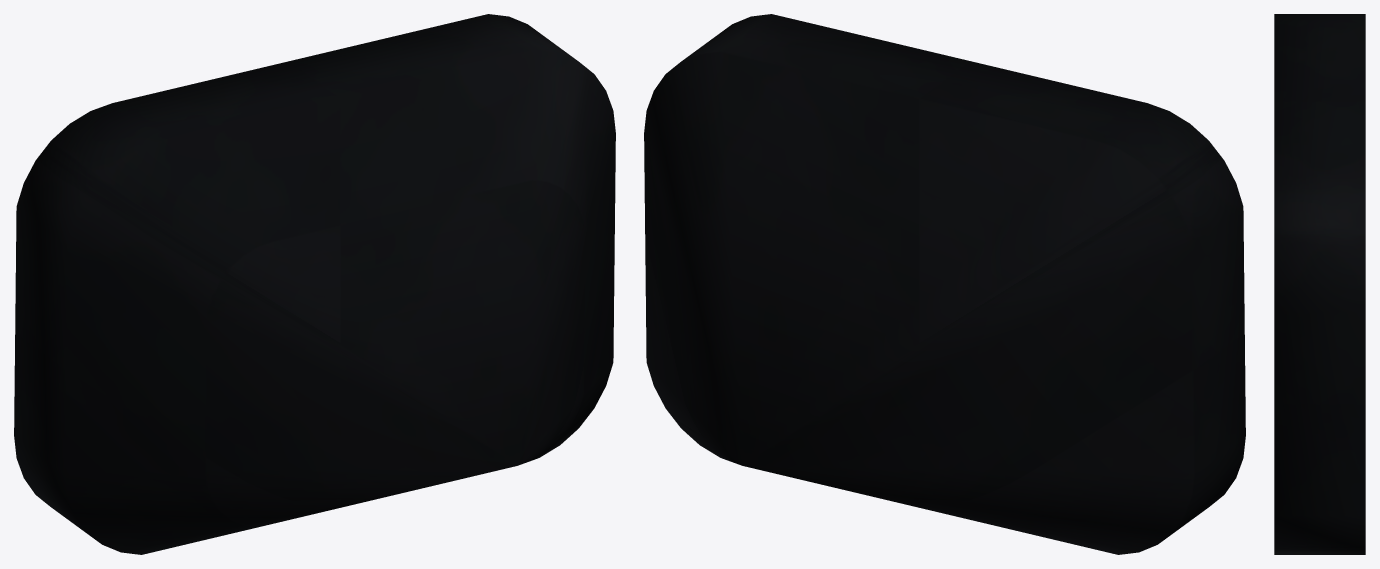
Rendered from MEETING_SPEAKERPHONE_001.glb.
3 renders of one model, left to right at view 1: azimuth 30°, elevation 25°; view 2: azimuth 150°, elevation 25°; view 3: azimuth 270°, elevation 25°, orthographic. The views are drawn at different scales.
Parts seen in each view (by area): view 1: speakerphone_000; view 2: speakerphone_000; view 3: speakerphone_000.
Part boxes in pixels (x1,y1,x2,y2): speakerphone_000: (14,14,615,554); speakerphone_000: (644,14,1245,554); speakerphone_000: (1274,14,1365,554).
Size of the model in its own units: 0.28 by 0.2 by 0.045.
2 materials, 2 textured.
